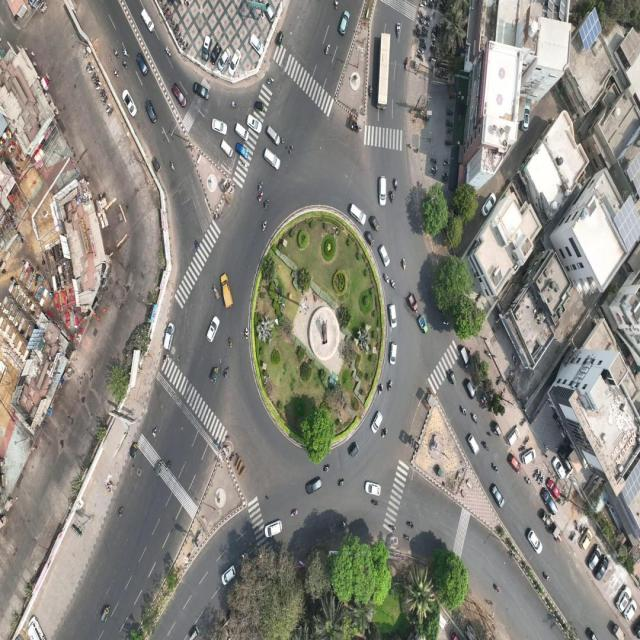3W: (464, 380, 476, 402), (100, 604, 112, 624), (129, 439, 139, 461), (150, 155, 161, 175), (585, 625, 598, 640), (348, 442, 360, 458), (153, 459, 163, 478), (210, 366, 220, 385), (492, 420, 502, 439), (448, 368, 457, 388), (371, 215, 380, 234), (190, 624, 200, 639), (255, 99, 265, 113), (365, 232, 375, 246), (276, 31, 283, 47)
Bus: (376, 29, 390, 112)
Cars: (614, 582, 633, 614), (539, 486, 558, 518), (480, 190, 497, 222), (226, 49, 244, 77), (586, 543, 602, 573), (248, 32, 266, 58), (122, 89, 138, 118), (594, 554, 610, 583), (262, 147, 282, 170), (304, 474, 324, 497), (162, 321, 176, 353), (527, 528, 543, 556), (490, 482, 506, 510), (550, 453, 566, 481), (557, 443, 572, 472), (348, 204, 367, 226), (140, 9, 156, 35), (172, 82, 188, 108), (144, 96, 158, 125), (578, 526, 593, 553), (220, 564, 237, 587), (207, 314, 220, 344), (216, 46, 231, 72), (363, 478, 382, 498), (622, 599, 637, 624), (246, 113, 262, 136), (520, 102, 531, 135), (192, 82, 210, 102), (338, 10, 351, 37), (208, 41, 222, 66), (265, 519, 283, 538), (371, 410, 384, 436), (547, 476, 560, 502), (136, 49, 148, 77), (266, 124, 280, 147), (466, 433, 480, 456), (234, 121, 250, 141), (508, 454, 523, 475), (202, 33, 212, 64), (506, 425, 520, 447), (210, 118, 228, 135), (263, 0, 275, 25), (234, 141, 250, 159), (521, 448, 537, 466), (220, 138, 233, 159), (388, 303, 398, 330), (379, 244, 390, 268), (460, 345, 470, 371), (378, 176, 386, 208), (389, 342, 397, 366)
LCV: (219, 272, 235, 311), (407, 290, 420, 314), (415, 315, 430, 335), (611, 621, 624, 640)
M2W: (322, 462, 332, 474), (492, 583, 502, 595), (163, 458, 172, 471), (376, 382, 384, 396), (387, 523, 398, 533), (152, 425, 158, 443), (164, 46, 173, 58), (396, 21, 402, 39), (388, 189, 395, 204), (381, 271, 389, 284), (537, 476, 547, 486), (492, 461, 499, 475), (118, 505, 124, 521), (393, 178, 399, 194), (337, 476, 345, 488), (542, 570, 550, 582), (263, 198, 270, 211), (459, 403, 466, 416), (223, 365, 229, 380), (162, 355, 172, 364), (258, 190, 264, 205), (402, 534, 411, 544), (227, 336, 233, 350), (113, 67, 120, 79), (402, 258, 408, 272), (390, 278, 396, 292), (240, 550, 247, 562), (382, 426, 388, 440), (471, 412, 478, 424), (512, 352, 518, 366), (532, 469, 539, 481), (535, 472, 542, 484), (445, 107, 454, 116), (339, 520, 348, 529), (228, 101, 238, 109), (387, 378, 392, 394), (290, 508, 298, 518), (324, 44, 330, 57), (121, 58, 128, 69), (113, 49, 119, 61), (122, 46, 128, 58), (170, 23, 178, 32), (174, 26, 180, 38), (370, 498, 378, 507), (486, 351, 494, 360), (570, 530, 576, 542), (181, 38, 186, 52), (524, 475, 530, 486), (262, 220, 267, 233), (183, 41, 188, 54), (244, 324, 248, 340), (445, 120, 453, 128), (267, 76, 274, 85), (407, 519, 414, 528), (169, 160, 175, 170), (369, 84, 373, 99), (440, 172, 450, 178), (483, 442, 489, 452), (213, 214, 221, 221), (429, 158, 437, 165), (163, 7, 169, 16), (445, 128, 454, 134), (168, 14, 173, 24), (257, 182, 263, 190), (164, 12, 170, 20), (169, 22, 175, 30), (430, 165, 438, 171), (441, 176, 449, 182), (448, 94, 456, 100), (444, 140, 452, 146), (442, 160, 450, 166), (179, 35, 183, 46), (162, 4, 168, 11), (177, 31, 181, 41), (430, 170, 436, 176)
